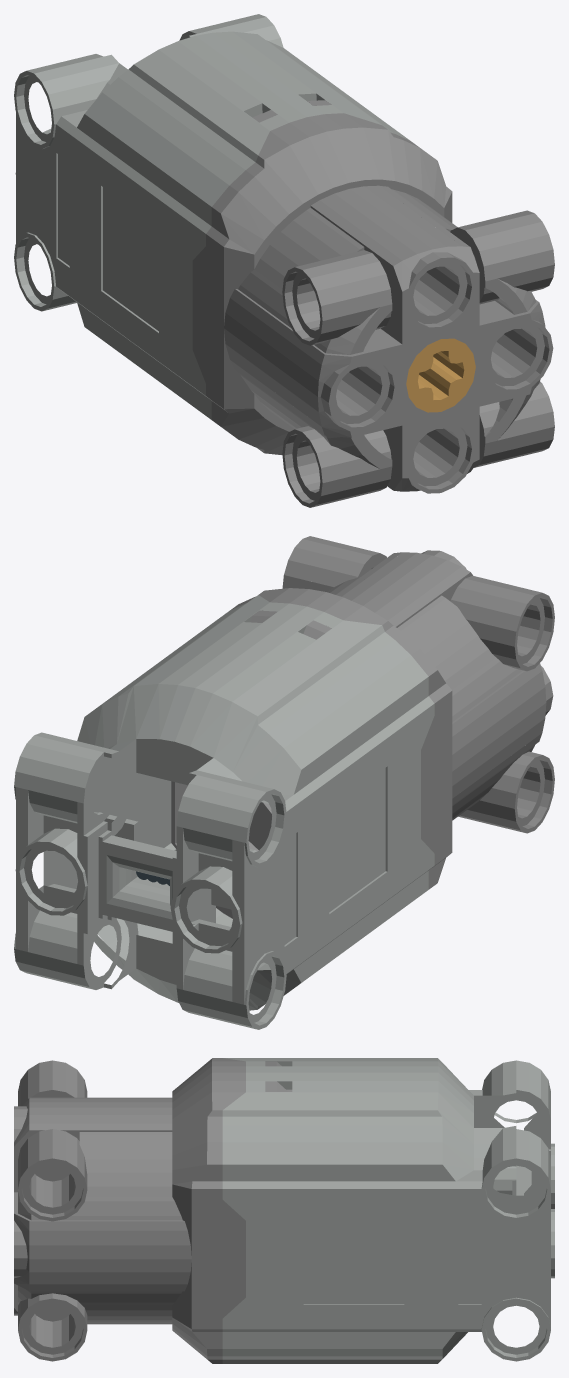
3 renders of one model, top to bottom at view 1: azimuth 30°, elevation 25°; view 2: azimuth 150°, elevation 25°; view 3: azimuth 270°, elevation 25°, orthographic. The views are drawn at different scales.
Visible parts, largest first — view 1: world; view 2: world; view 3: world.
Boxes of the visible parts, left/top/right/bottom form: world: left=14, top=14, right=554, bottom=507; world: left=14, top=536, right=554, bottom=1029; world: left=14, top=1058, right=554, bottom=1363.
Size of the model in its own units: 0.024 by 0.0316 by 0.056.
